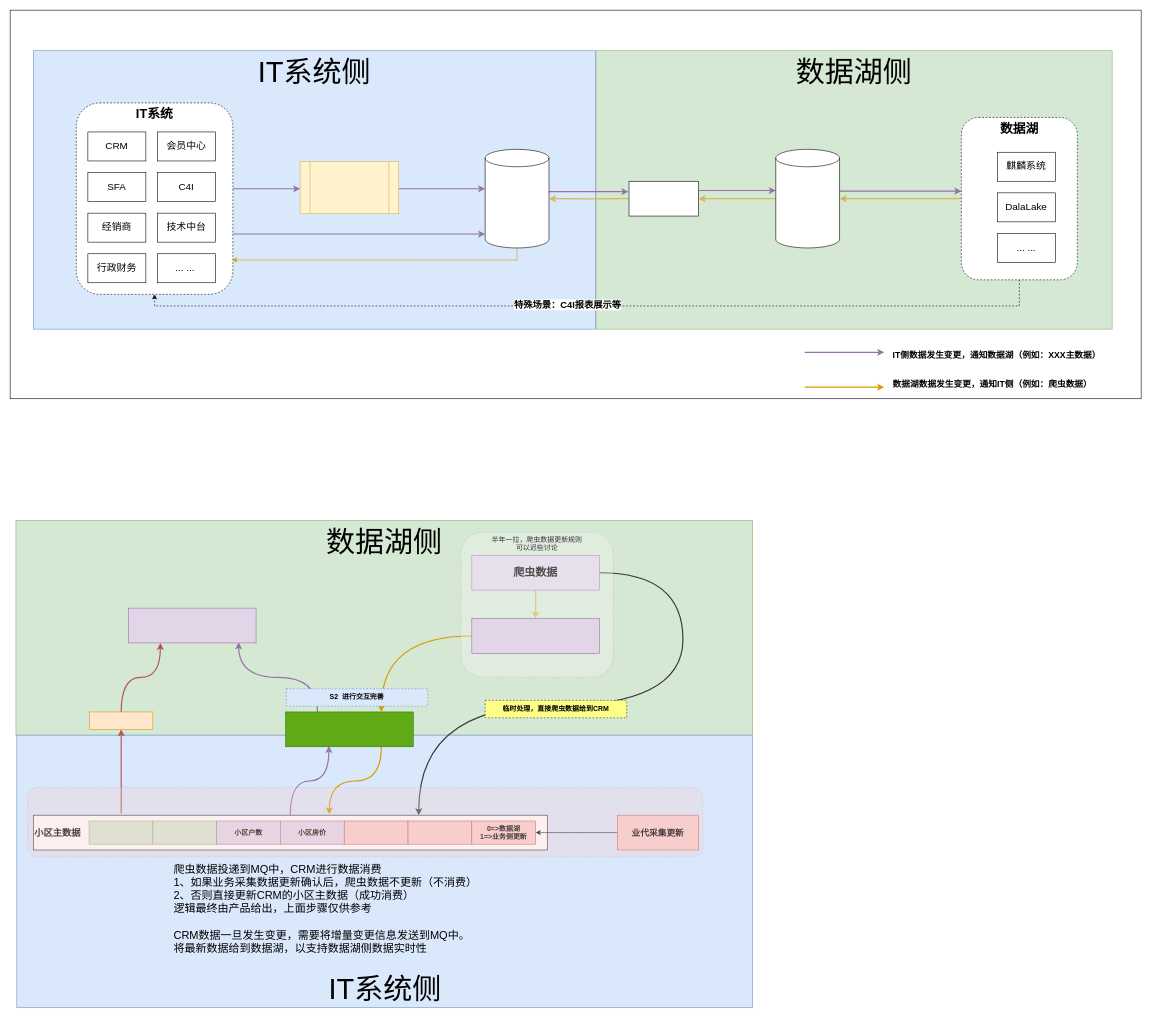
The diagram is 1151 pixels wide and 1018 high, and some of its shapes have lost their labels. The shapes that lost their labels are listed below. From the top down, each one's centre as x and y in pixels, then its label:
At point 349,187: "CANAL ？ DMS ？".
At point 517,198: "RabbitMQ".
At point 663,198: "数据湖消息转发服务".
At point 807,198: "KINESIS".
At point 192,625: "小区数据".
At point 535,635: "数据处理".
At point 121,720: "S1 临时方案：T+1".
At point 349,729: "RabbitMQ / KafKa".
At point 365,822: "审批&更新 规则 正在推进中".
